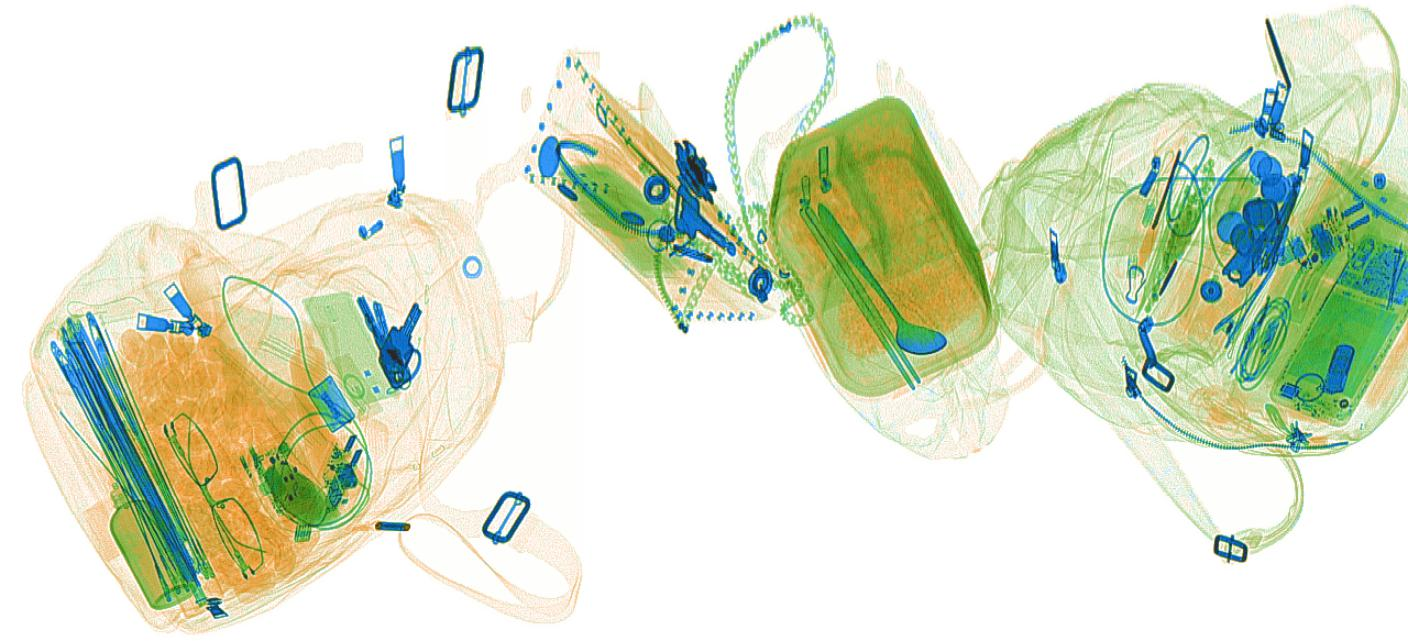USBFlashDisk: (1323, 343, 1355, 395)
